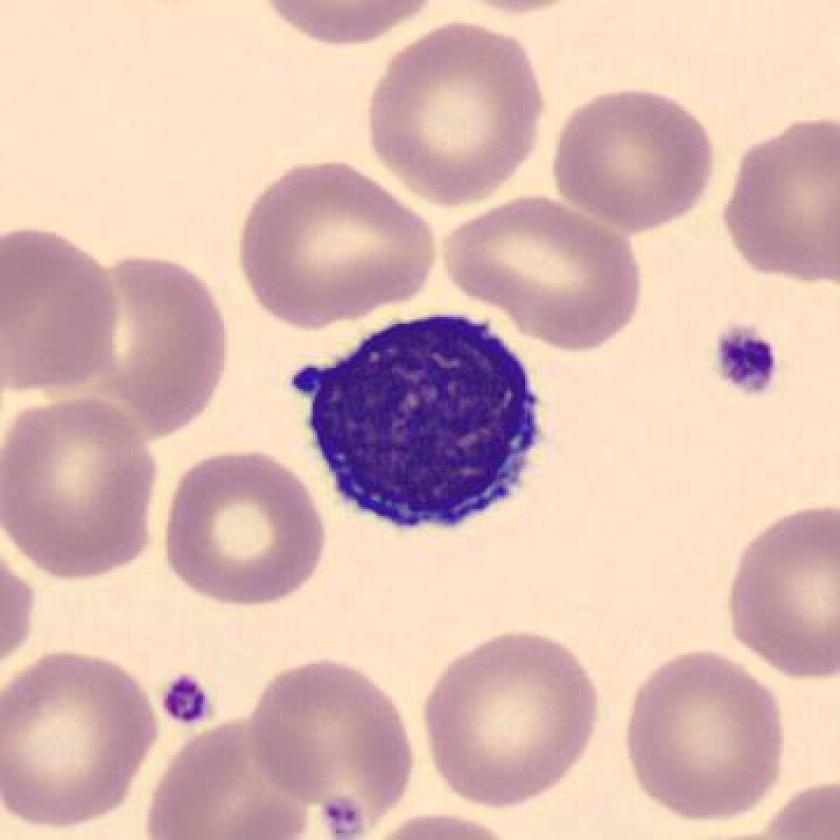lymphocyte: (269, 297, 566, 543)
